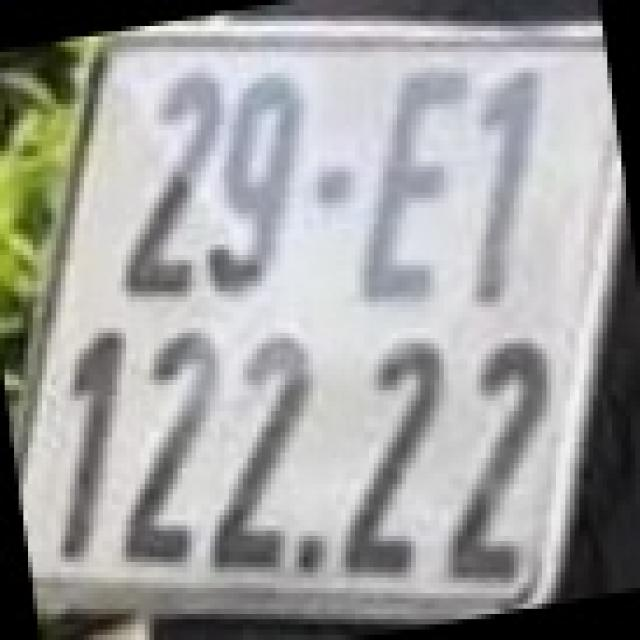1: (472, 62, 542, 302), (56, 328, 126, 562)
2: (448, 338, 546, 583), (210, 333, 304, 572), (346, 338, 439, 572), (121, 68, 215, 296), (126, 328, 215, 562)
9: (210, 78, 299, 291)
E: (369, 62, 463, 302)
